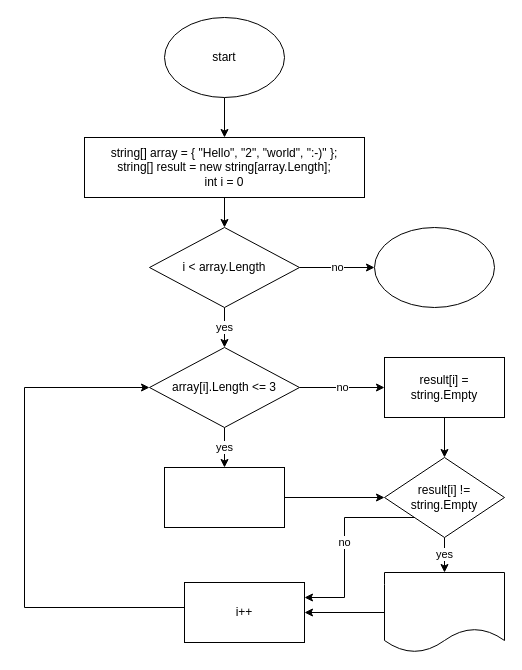
Some shapes in this 522 by 670 pixel diagram are drawn without their labels. Here are the shapes that lost their labels. From the top down, the centre of each, then its label:
point 434,267: end
point 224,497: result[i] = array[i]
point 444,612: Console.Write($"{result[i]} ")
